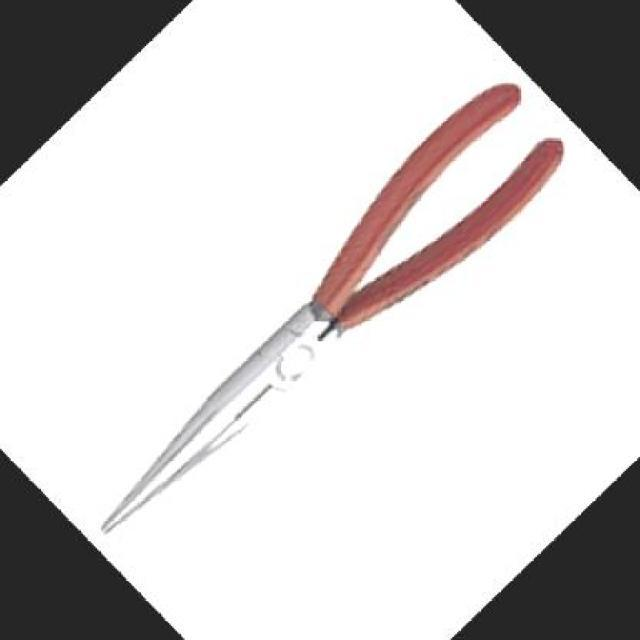pliers: (9, 16, 618, 615)
